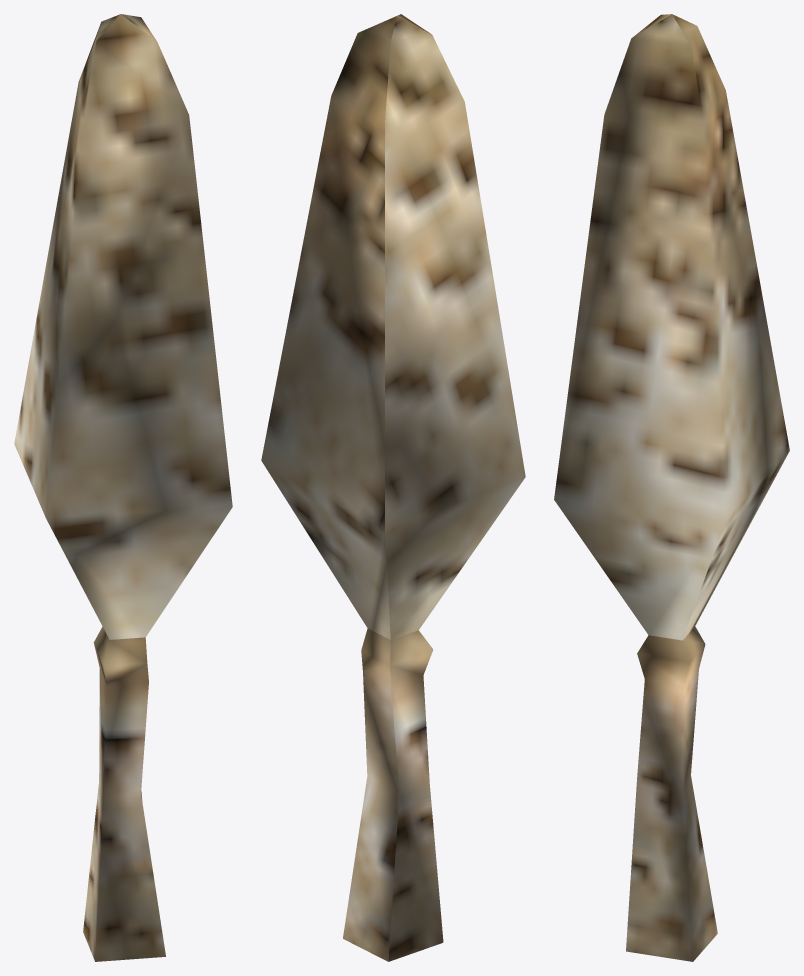
The model's file is MS_Mushroom_2.fbx.
3 renders of one model, left to right at view 1: azimuth 30°, elevation 25°; view 2: azimuth 150°, elevation 25°; view 3: azimuth 270°, elevation 25°, orthographic.
Visible parts, largest first — view 1: MSH_Mushroom_02; view 2: MSH_Mushroom_02; view 3: MSH_Mushroom_02.
Boxes of the visible parts, x1,y1,x2,y2 form: MSH_Mushroom_02: (14,14,232,961); MSH_Mushroom_02: (261,14,525,961); MSH_Mushroom_02: (554,14,789,961).
Size of the model in its own units: 8.33 by 35.06 by 8.09.
